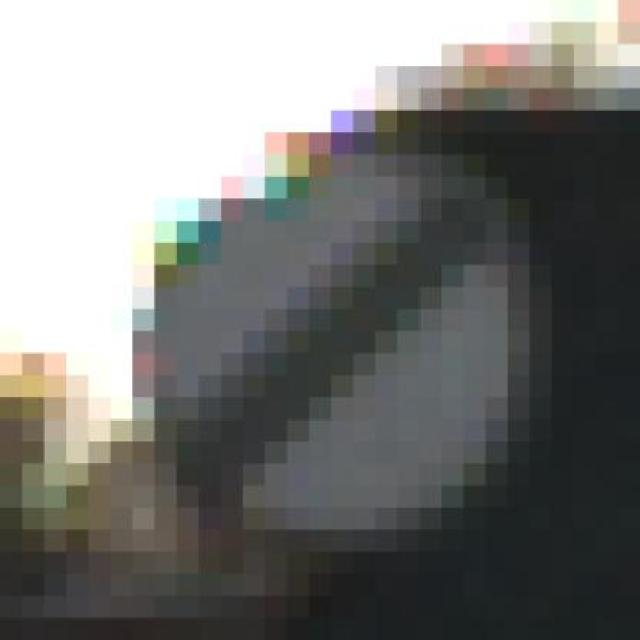End of all speed and passing limits: (110, 132, 552, 552)
